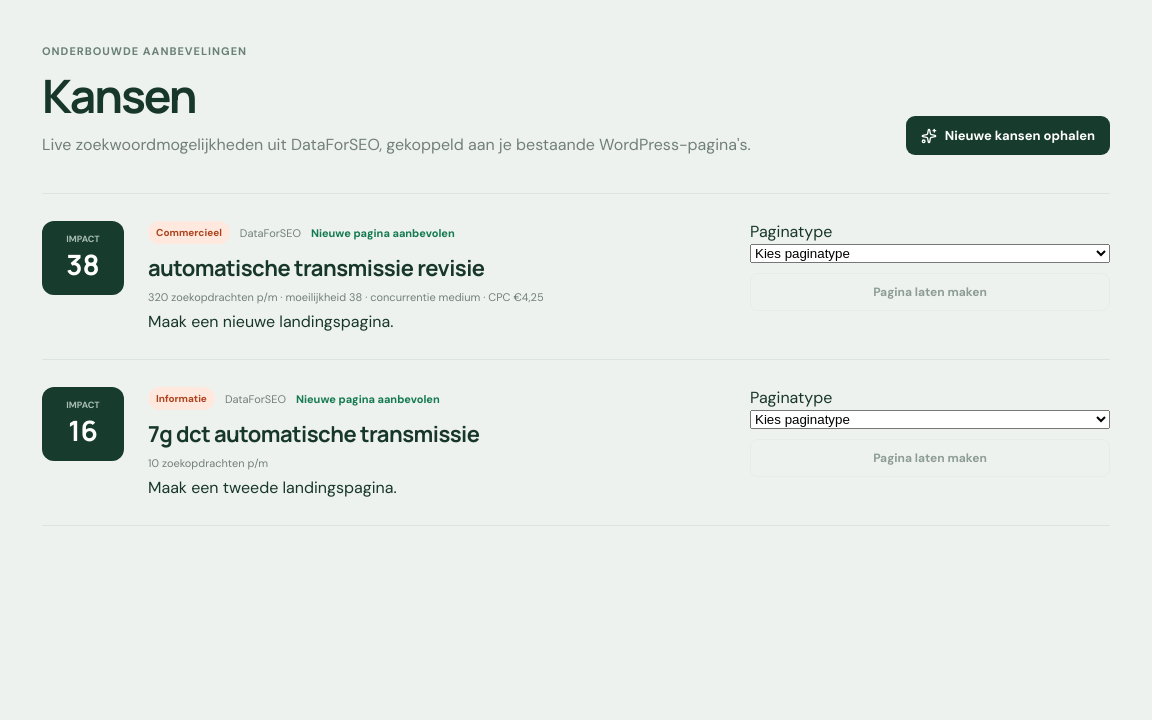
Test: OpportunitiesPage › shows page proposal errors next to the selected opportunity
Click the button "Nieuwe kansen ophalen" at {"x": 1008, "y": 136}, box [906,116,1110,155]
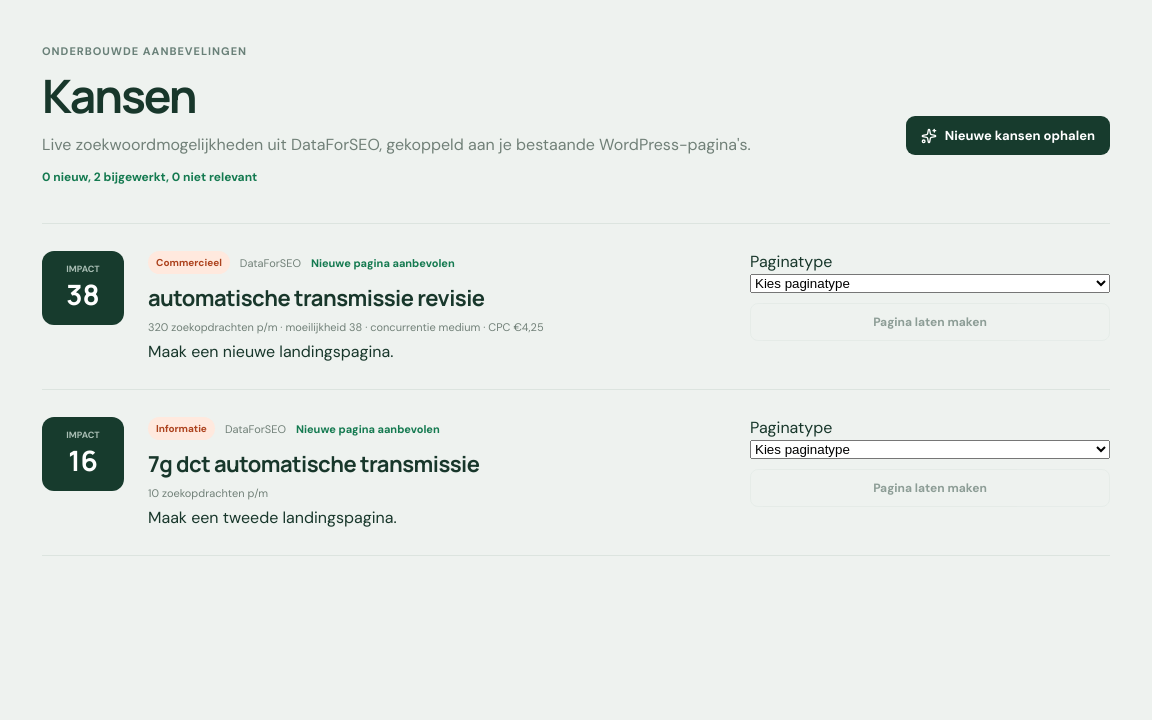
Expected: the text "7g dct automatische transmissie" is shown, [148,449,480,479]
Now the text "0 nieuw, 2 bijgewerkt, 0 niet relevant" is shown, box [42,169,257,185]
Select "Dienstpagina · Dienstpagina v2" in the dropdown named "Paginatype voor 7g dct automatische transmissie" at {"x": 930, "y": 450}, box [750,440,1110,459]
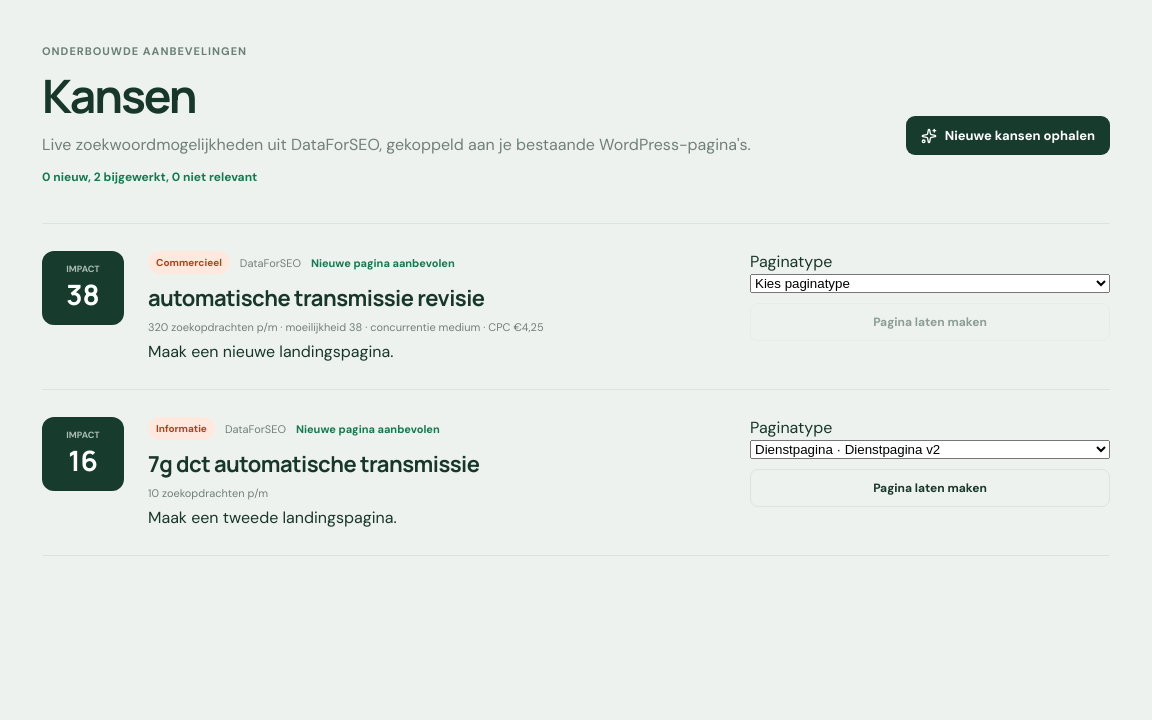
Click the button "Pagina laten maken" in the row of "7g dct automatische transmissie" at {"x": 930, "y": 488}, box [750,469,1110,507]
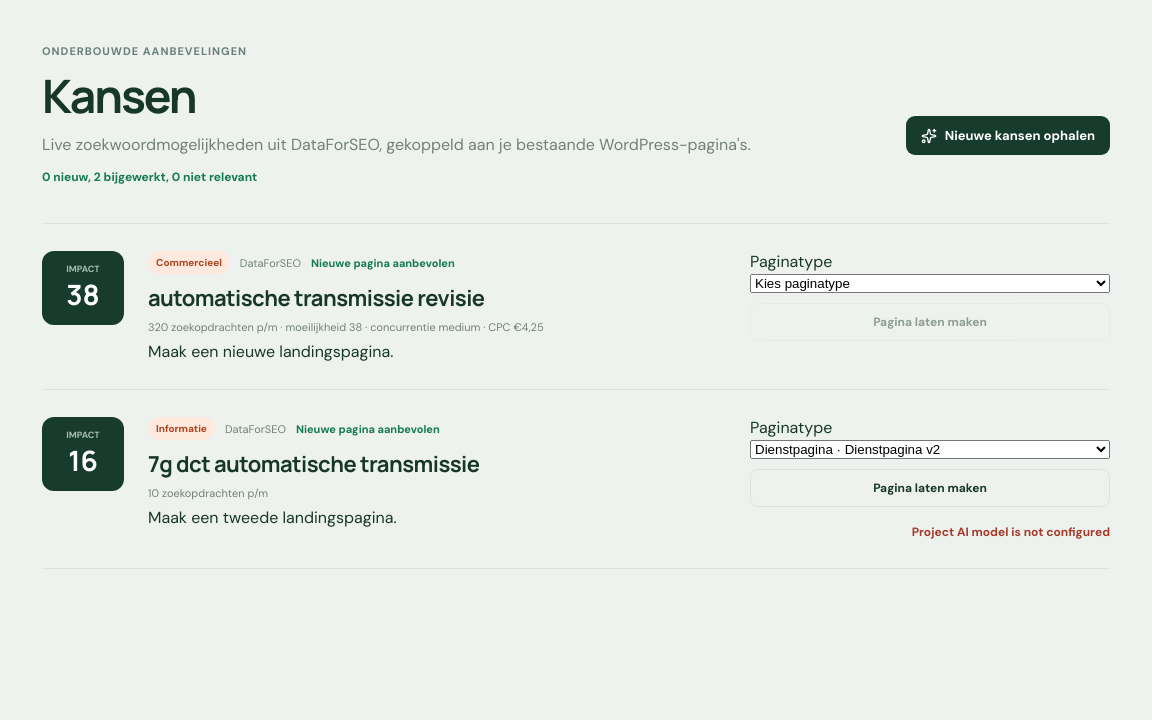
Now the text "0 nieuw, 2 bijgewerkt, 0 niet relevant" is shown, box [42,169,257,185]
Now the message "Project AI model is not configured" is shown, box [912,524,1110,540]
Click the button "Pagina laten maken" in the row of "7g dct automatische transmissie" at {"x": 930, "y": 488}, box [750,469,1110,507]
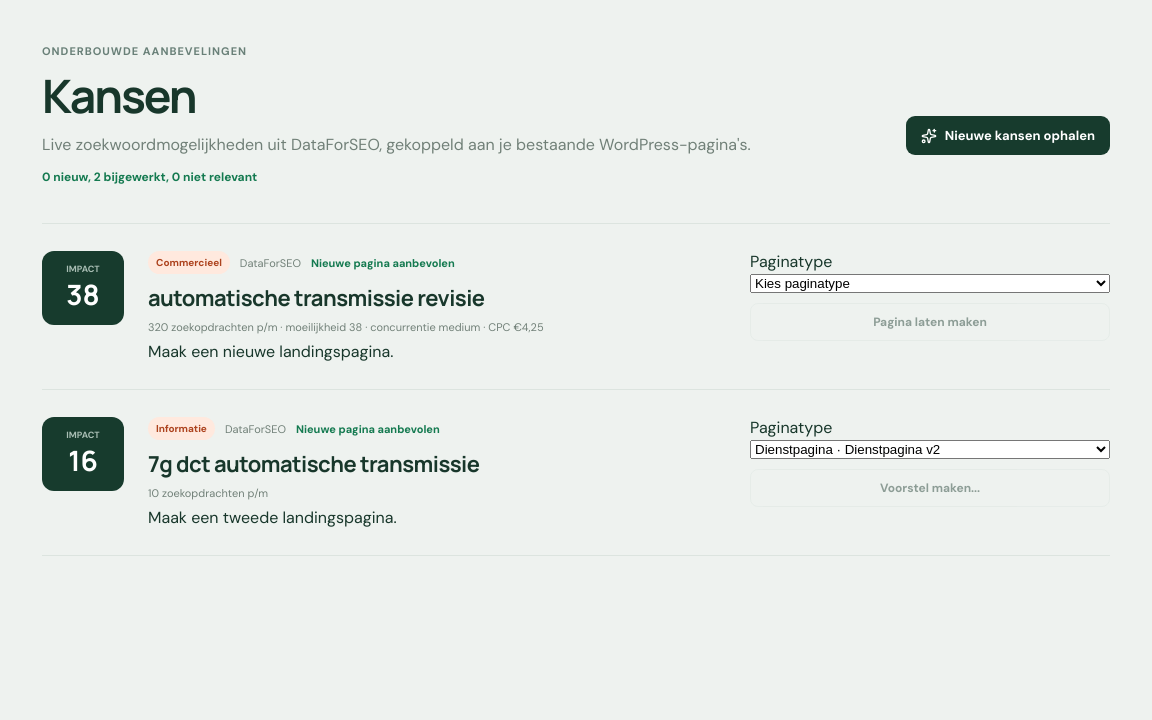
Now the message "Project AI model is not configured" is gone
